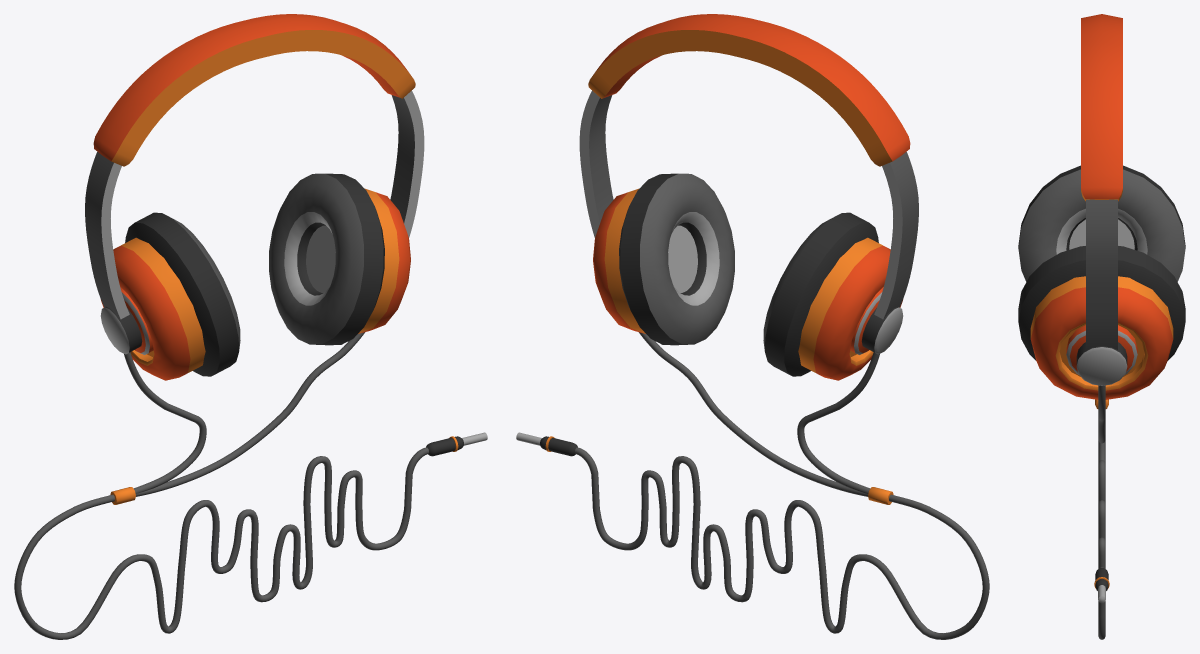
The model's file is my_first_textured_model_headphones.glb.
The picture shows the model from 3 angles, left to right: view 1: azimuth 30°, elevation 25°; view 2: azimuth 150°, elevation 25°; view 3: azimuth 270°, elevation 25°; orthographic projection. The views are drawn at different scales.
Parts seen in each view (by area): view 1: kabel; view 2: kabel; view 3: kabel.
Boxes of the visible parts, box(x1,y1,x2,y2) form: kabel: box(14, 14, 487, 639); kabel: box(516, 14, 989, 639); kabel: box(1018, 14, 1185, 639).
Size of the model in its own units: 103 by 122 by 32.41.
1 material, 1 textured.
